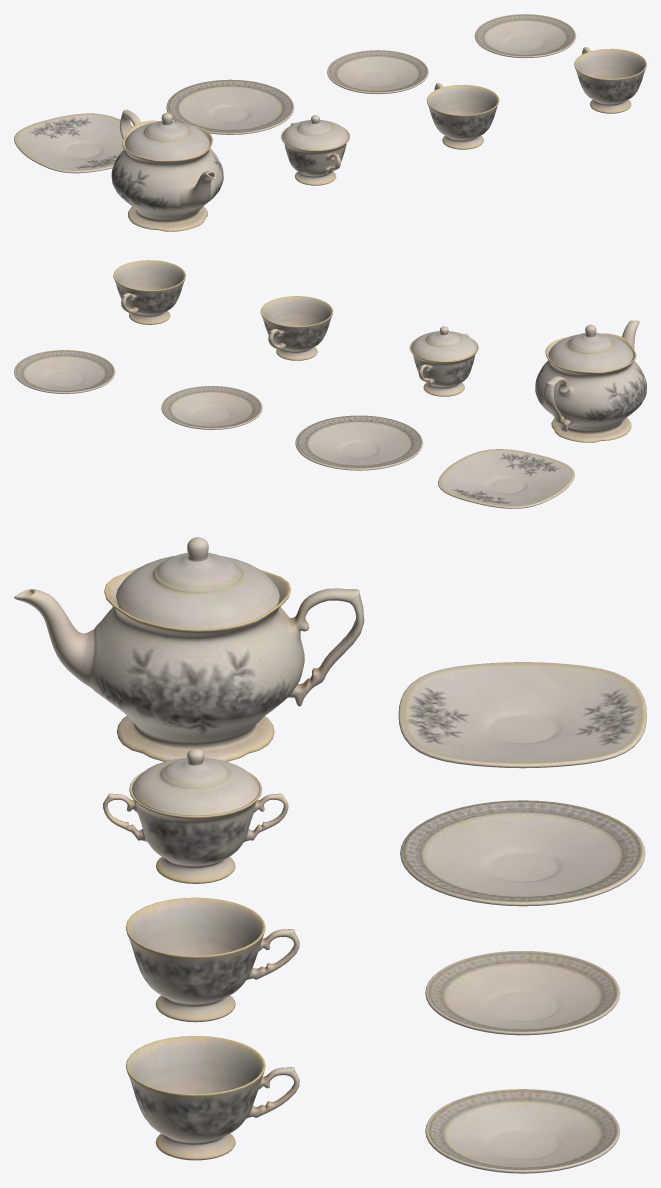
The picture shows the model from 3 angles, top to bottom: view 1: azimuth 30°, elevation 25°; view 2: azimuth 150°, elevation 25°; view 3: azimuth 270°, elevation 25°; orthographic projection. The views are drawn at different scales.
Parts seen in each view (by area): view 1: tea_set_01_teapot_01, tea_set_01_plate_large_circular_03, tea_set_01_plate_large_square_01, tea_set_01_cup_small_01, tea_set_01_cup_small_02, tea_set_01_saucer_circular_03, tea_set_01_saucer_circular_04, tea_set_01_teapot_01_lid, tea_set_01_sugar_cup_01, tea_set_01_sugar_cup_01_lid; view 2: tea_set_01_teapot_01, tea_set_01_plate_large_square_01, tea_set_01_plate_large_circular_03, tea_set_01_cup_small_01, tea_set_01_cup_small_02, tea_set_01_saucer_circular_04, tea_set_01_saucer_circular_03, tea_set_01_teapot_01_lid, tea_set_01_sugar_cup_01, tea_set_01_sugar_cup_01_lid; view 3: tea_set_01_teapot_01, tea_set_01_plate_large_square_01, tea_set_01_plate_large_circular_03, tea_set_01_cup_small_01, tea_set_01_cup_small_02, tea_set_01_saucer_circular_03, tea_set_01_saucer_circular_04, tea_set_01_teapot_01_lid, tea_set_01_sugar_cup_01, tea_set_01_sugar_cup_01_lid.
Part boxes in pixels (x1=…): tea_set_01_teapot_01: x1=111, y1=109, x2=223, y2=231; tea_set_01_plate_large_circular_03: x1=166, y1=79, x2=294, y2=134; tea_set_01_plate_large_square_01: x1=14, y1=113, x2=133, y2=173; tea_set_01_cup_small_01: x1=426, y1=83, x2=499, y2=149; tea_set_01_cup_small_02: x1=574, y1=47, x2=646, y2=113; tea_set_01_saucer_circular_03: x1=474, y1=14, x2=576, y2=58; tea_set_01_saucer_circular_04: x1=327, y1=50, x2=428, y2=94; tea_set_01_teapot_01_lid: x1=125, y1=112, x2=209, y2=160; tea_set_01_sugar_cup_01: x1=281, y1=122, x2=349, y2=185; tea_set_01_sugar_cup_01_lid: x1=282, y1=115, x2=348, y2=150; tea_set_01_teapot_01: x1=535, y1=320, x2=646, y2=442; tea_set_01_plate_large_square_01: x1=438, y1=449, x2=574, y2=508; tea_set_01_plate_large_circular_03: x1=295, y1=415, x2=422, y2=470; tea_set_01_cup_small_01: x1=260, y1=296, x2=333, y2=360; tea_set_01_cup_small_02: x1=113, y1=260, x2=185, y2=324; tea_set_01_saucer_circular_04: x1=161, y1=386, x2=262, y2=429; tea_set_01_saucer_circular_03: x1=14, y1=350, x2=115, y2=393; tea_set_01_teapot_01_lid: x1=548, y1=324, x2=633, y2=371; tea_set_01_sugar_cup_01: x1=409, y1=333, x2=478, y2=396; tea_set_01_sugar_cup_01_lid: x1=411, y1=326, x2=477, y2=361; tea_set_01_teapot_01: x1=14, y1=568, x2=364, y2=761; tea_set_01_plate_large_square_01: x1=398, y1=662, x2=646, y2=768; tea_set_01_plate_large_circular_03: x1=400, y1=800, x2=645, y2=906; tea_set_01_cup_small_01: x1=125, y1=897, x2=299, y2=1022; tea_set_01_cup_small_02: x1=126, y1=1036, x2=299, y2=1160; tea_set_01_saucer_circular_03: x1=425, y1=1089, x2=620, y2=1173; tea_set_01_saucer_circular_04: x1=425, y1=950, x2=620, y2=1035; tea_set_01_teapot_01_lid: x1=116, y1=537, x2=279, y2=628; tea_set_01_sugar_cup_01: x1=103, y1=771, x2=288, y2=883; tea_set_01_sugar_cup_01_lid: x1=131, y1=748, x2=259, y2=815.
Bounding box in the file's own units: 0.9185 × 0.165 × 0.4839.
1 material, 1 textured.
